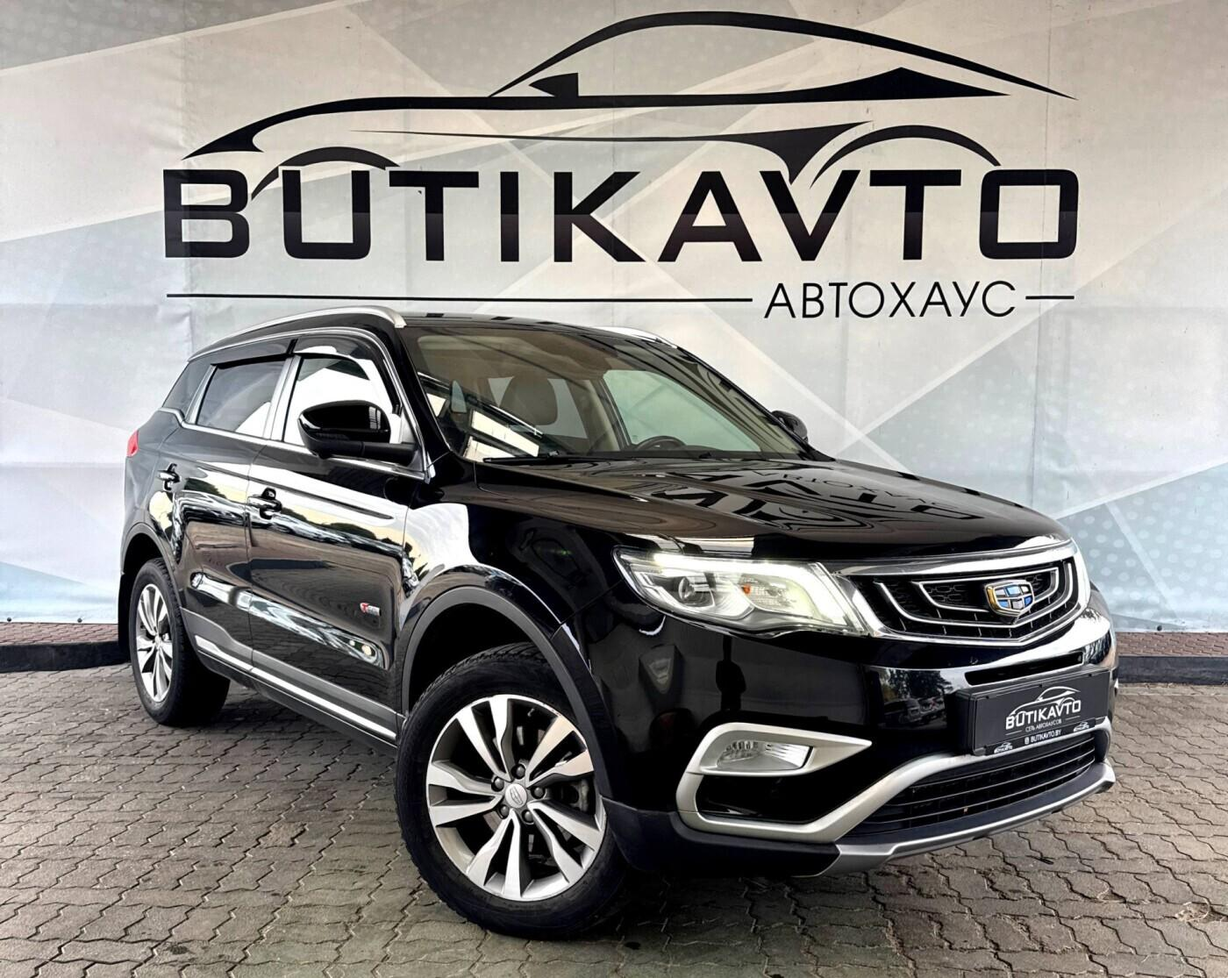Atlas_2016-2023: (114, 308, 1123, 927)
